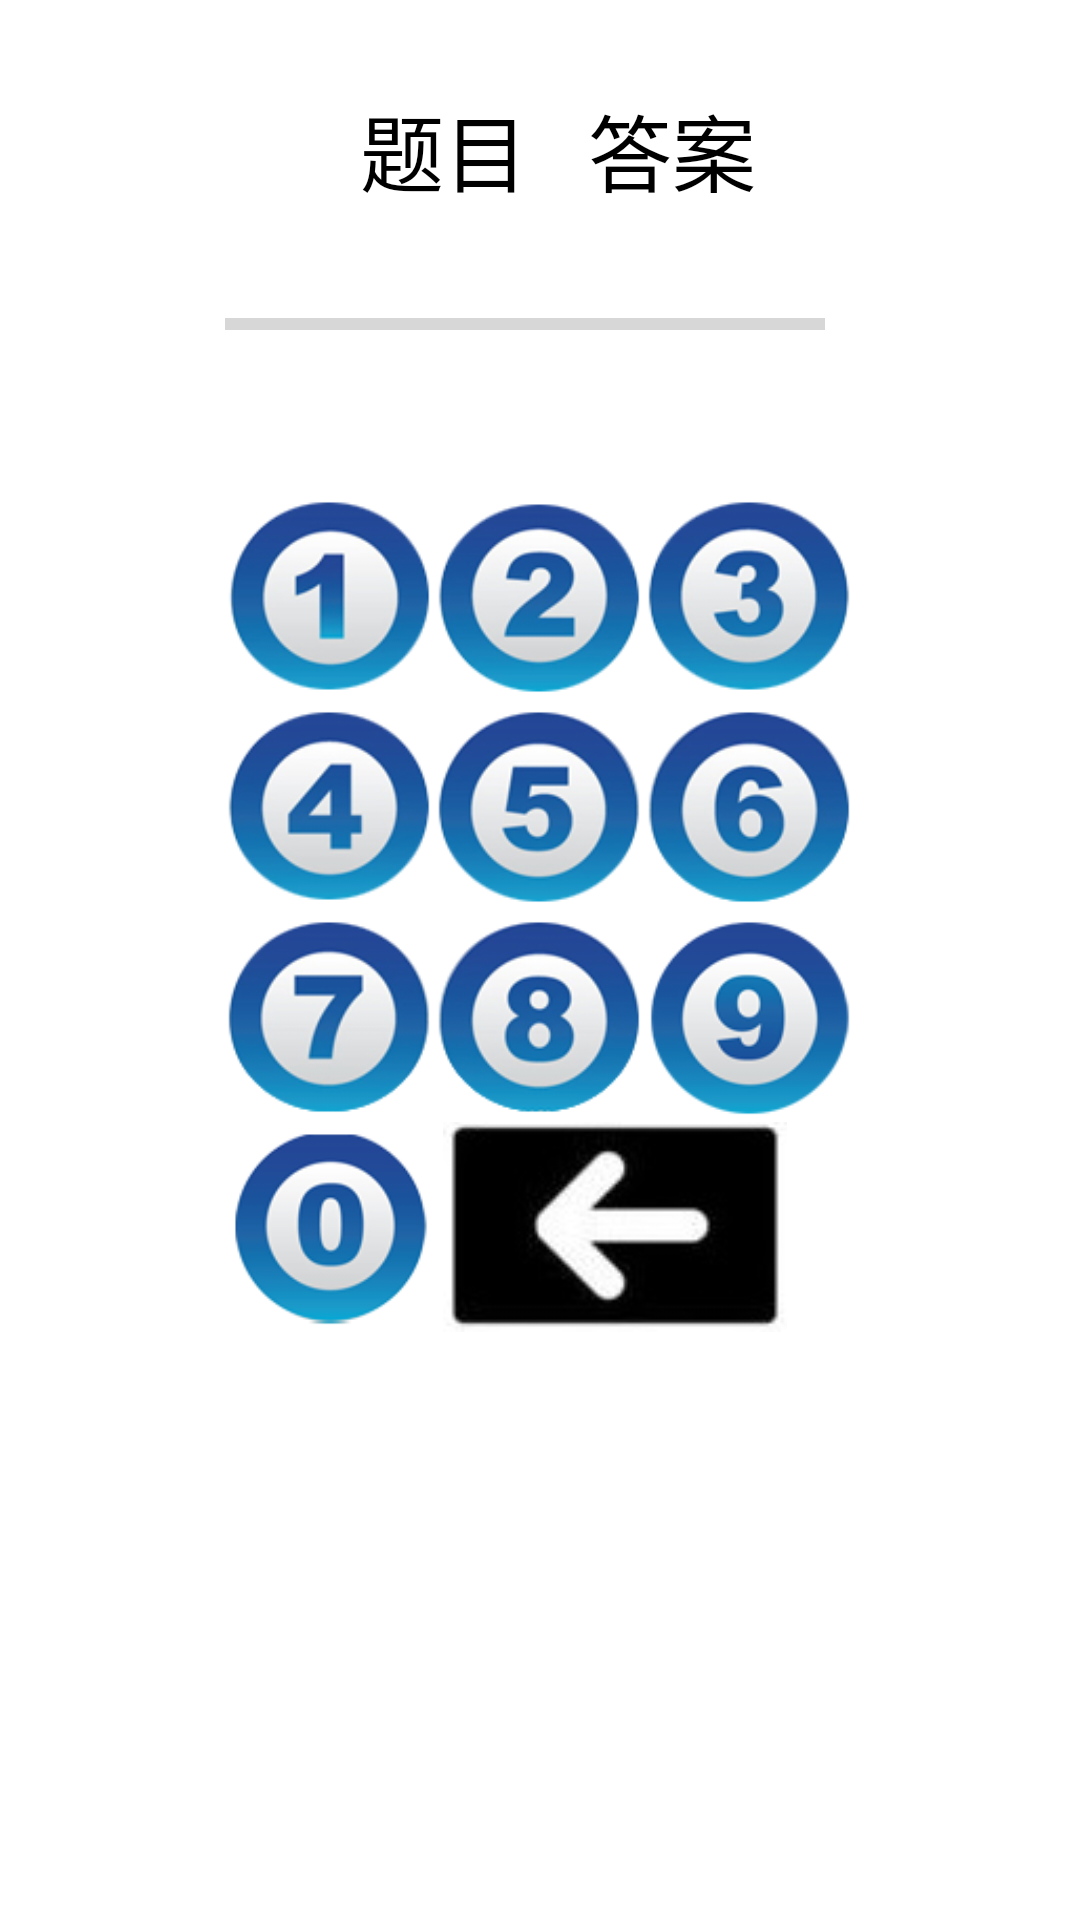

Icon bounding boxes for this 1080x1920 phone screenshot, format (x1,y1,x2,y2):
backspace: (451,1125,779,1326)
